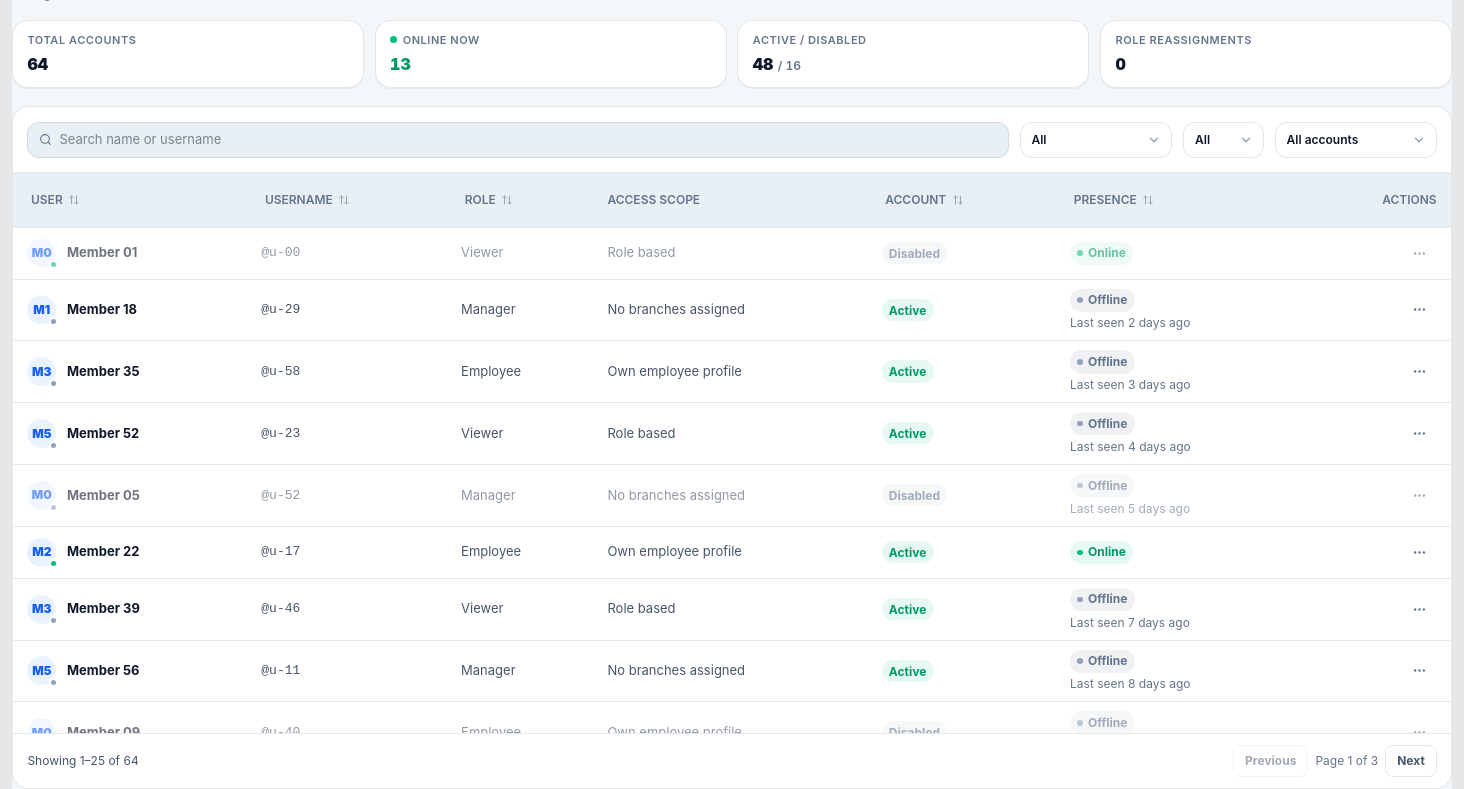
Users paging resets › returns to page 1 when a filter changes, even when the filtered rows still fill several pages
(page scrolled)
Click the button "Next" at point(1411, 761), box x1=1385 y1=745 x2=1437 y2=777
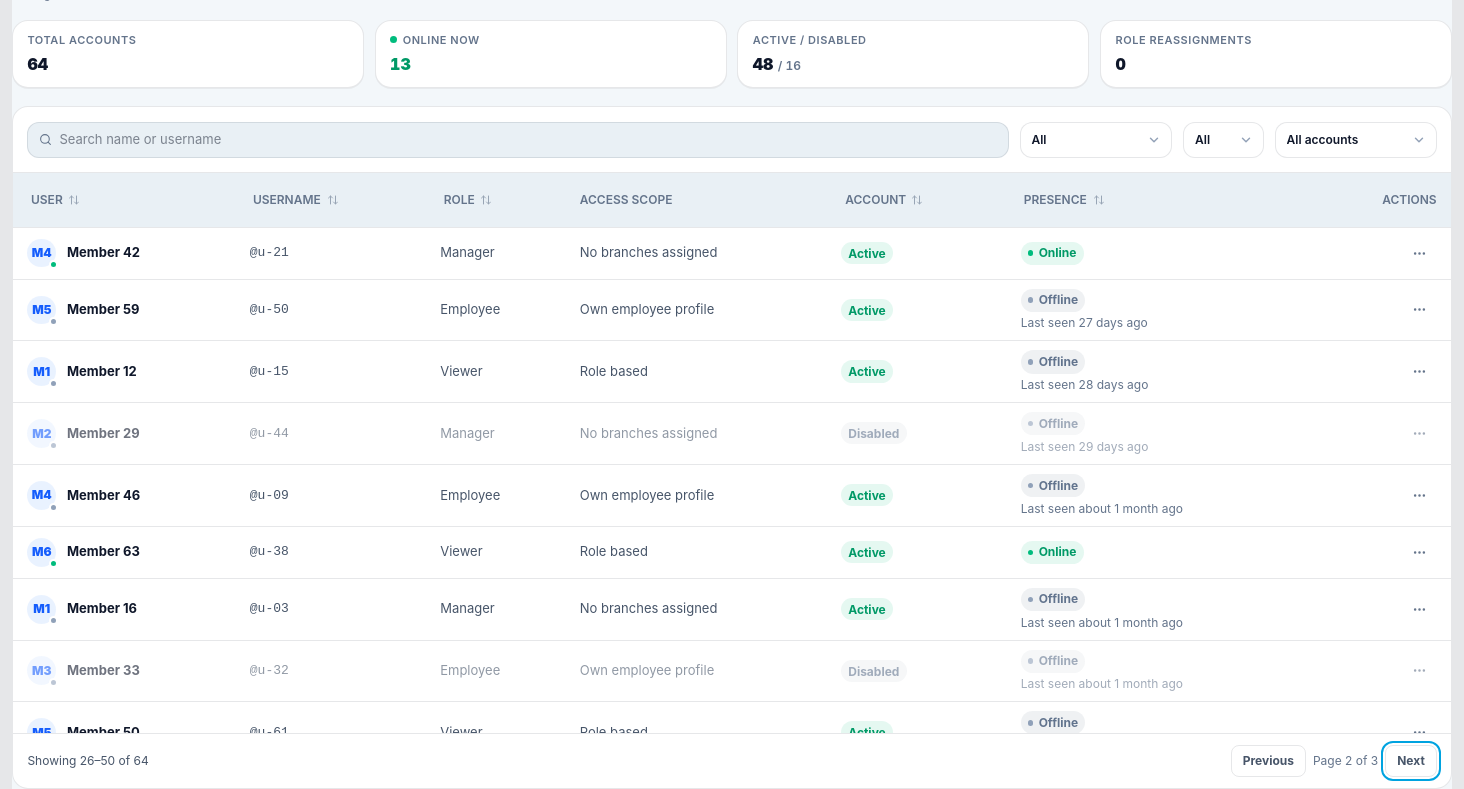
Now the text "Showing 26–50 of 64" is shown, box x1=27 y1=753 x2=149 y2=769
Select "Offline" in the dropdown named "Filter by presence" at point(1224, 140), box x1=1183 y1=122 x2=1264 y2=158
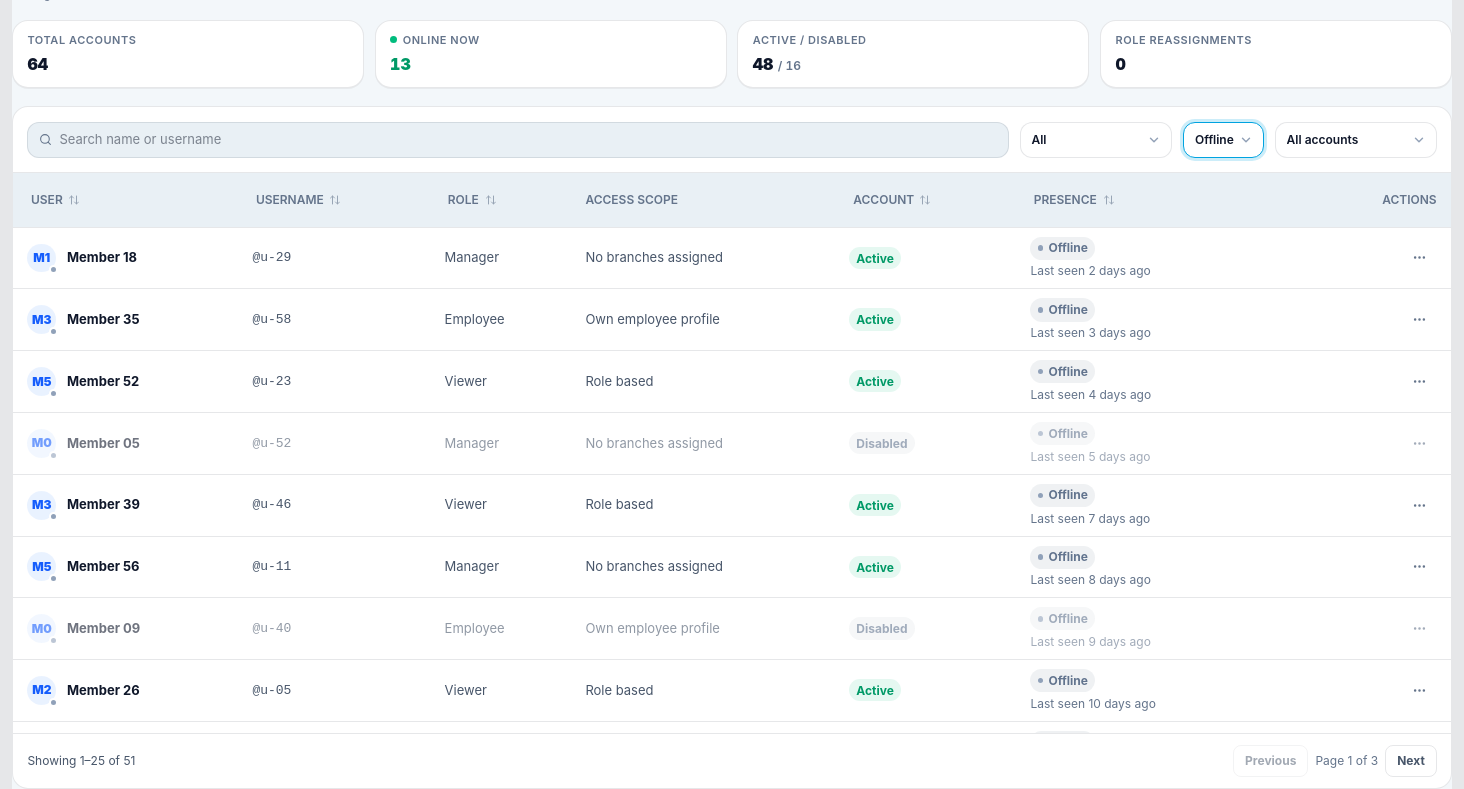
Now the text "Showing 1–25 of 51" is shown, box x1=27 y1=753 x2=135 y2=769
